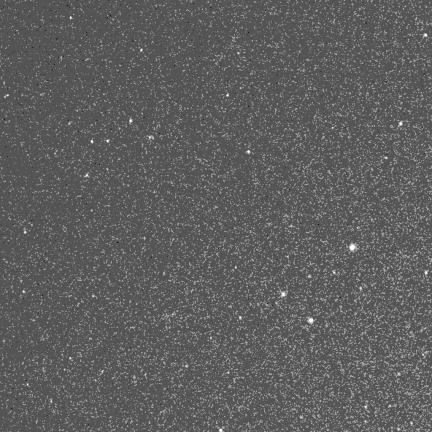blob: (350, 244, 355, 251), (308, 318, 313, 323), (333, 270, 337, 275), (281, 292, 286, 296), (106, 139, 110, 144), (69, 357, 73, 361), (85, 173, 89, 177), (239, 316, 243, 320), (399, 122, 402, 126), (247, 150, 250, 154), (424, 33, 427, 37), (219, 428, 223, 431), (385, 157, 389, 160), (23, 290, 26, 294), (226, 93, 229, 97), (70, 16, 73, 20), (398, 373, 401, 376), (185, 365, 188, 368), (141, 49, 144, 52), (24, 230, 26, 234), (130, 119, 132, 123), (91, 140, 93, 143)
